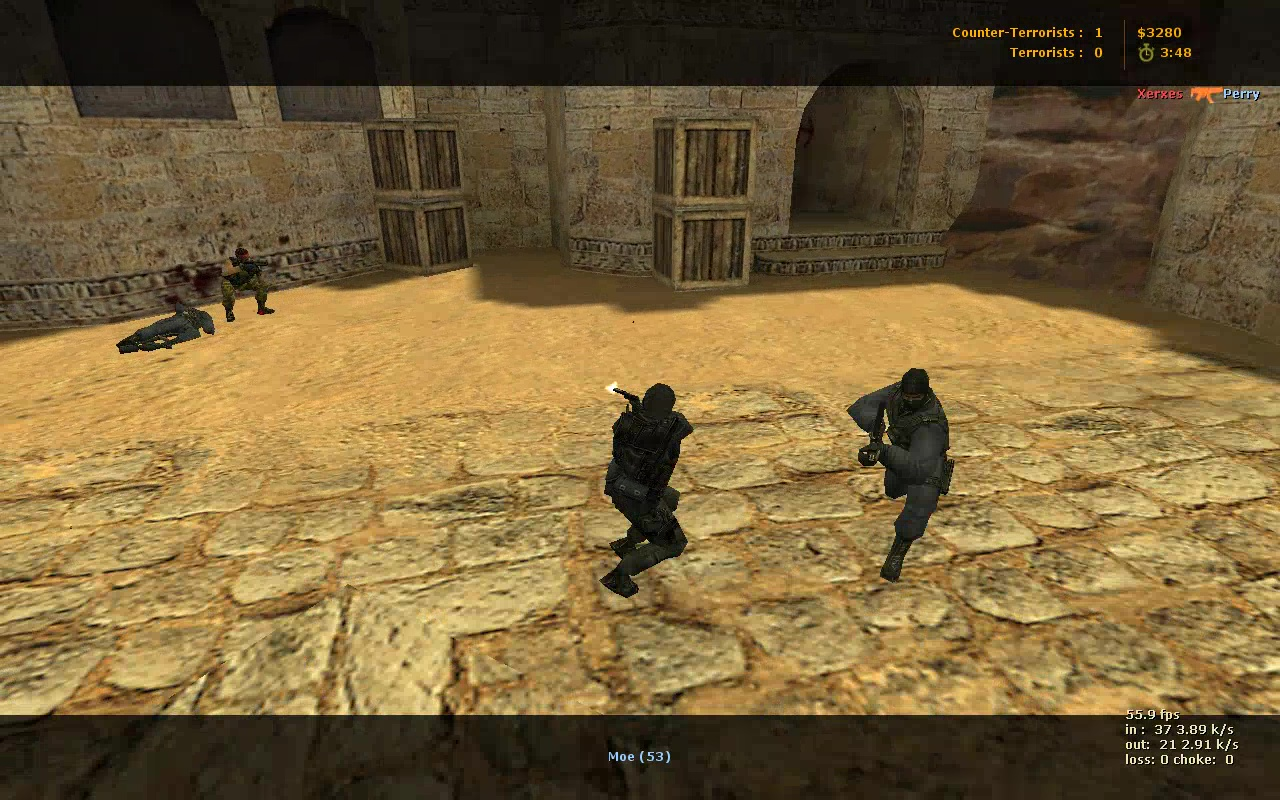ct: (849, 368, 958, 580), (594, 377, 695, 600)
dead: (117, 309, 219, 357)
terr1: (218, 247, 280, 321)
